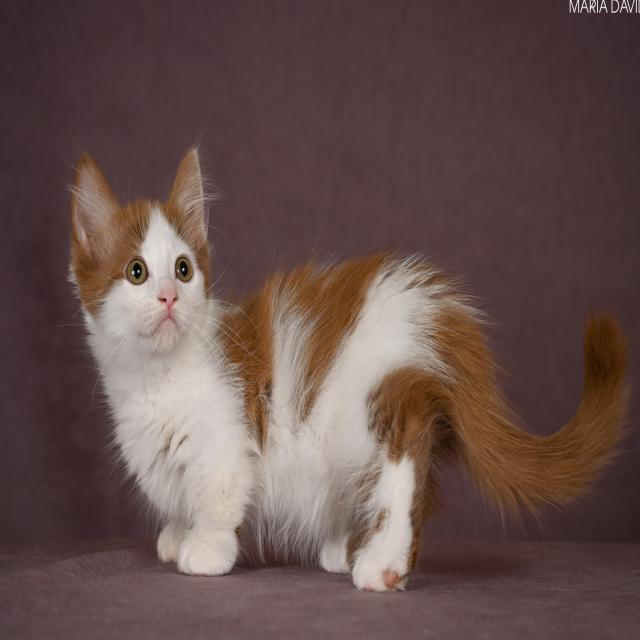Munchkin: (63, 139, 634, 607)
